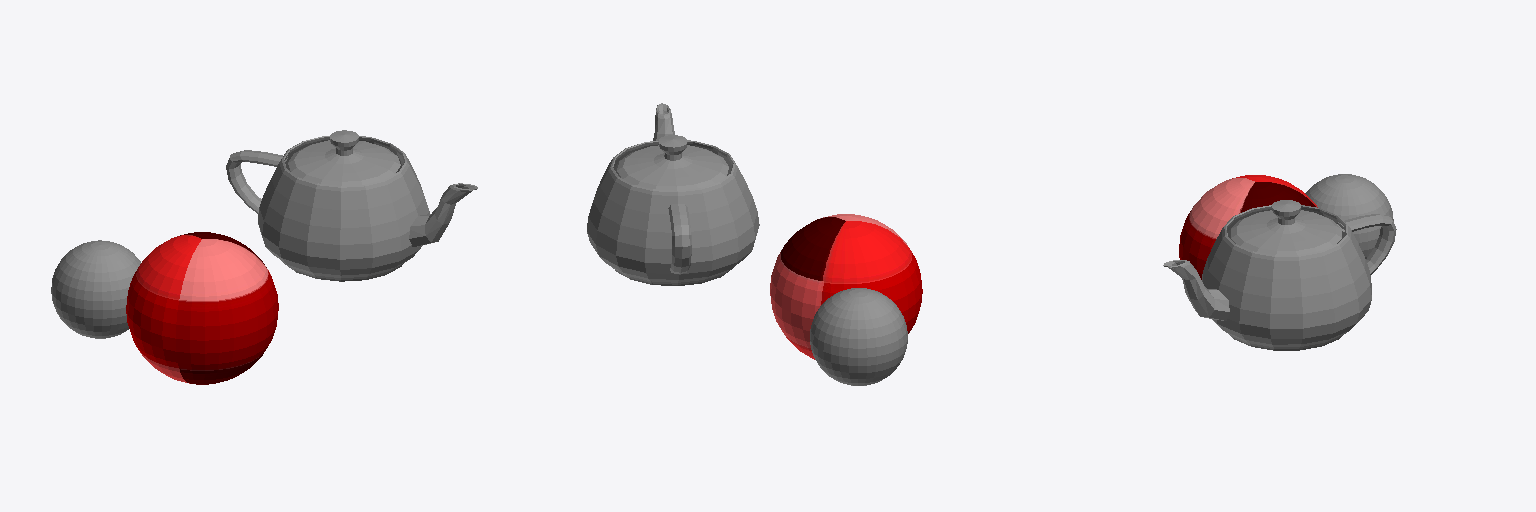
3 renders of one model, left to right at view 1: azimuth 30°, elevation 25°; view 2: azimuth 150°, elevation 25°; view 3: azimuth 270°, elevation 25°, orthographic.
Visible parts, largest first — view 1: o_teapot, g_sphere_00, g_sphere_01; view 2: o_teapot, g_sphere_00, g_sphere_01; view 3: o_teapot, g_sphere_00, g_sphere_01.
Boxes of the visible parts, x1,y1,x2,y2 form: o_teapot: [226, 130, 477, 281]; g_sphere_00: [126, 232, 278, 384]; g_sphere_01: [51, 240, 140, 338]; o_teapot: [587, 103, 759, 285]; g_sphere_00: [770, 214, 922, 359]; g_sphere_01: [810, 288, 907, 385]; o_teapot: [1163, 200, 1396, 350]; g_sphere_00: [1179, 175, 1317, 279]; g_sphere_01: [1305, 174, 1393, 258].
Bounding box in the file's own units: 2.2 × 1.22 × 1.34.
2 materials, 1 textured.